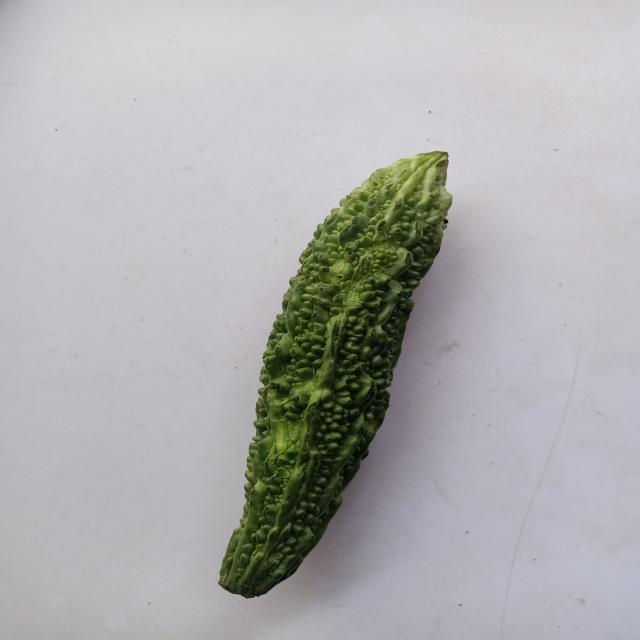Bitter Gourd: (165, 109, 472, 611)
